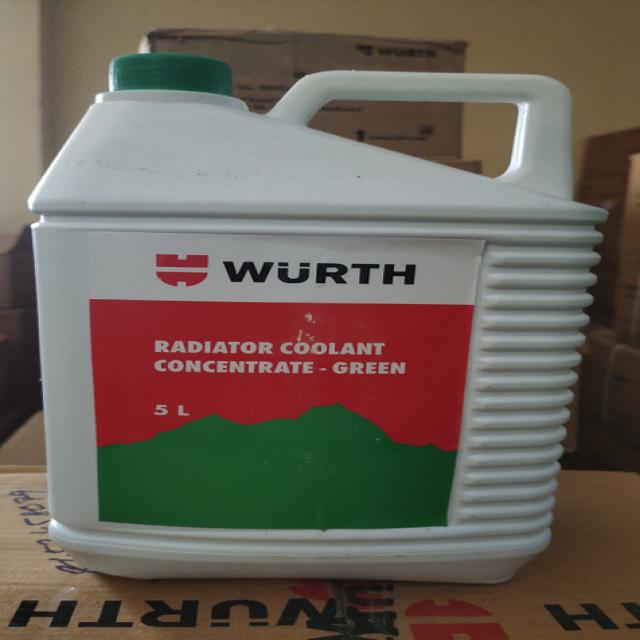coolant: (24, 48, 597, 585)
